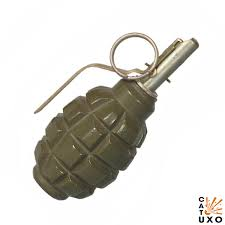bomb: (31, 33, 197, 197)
